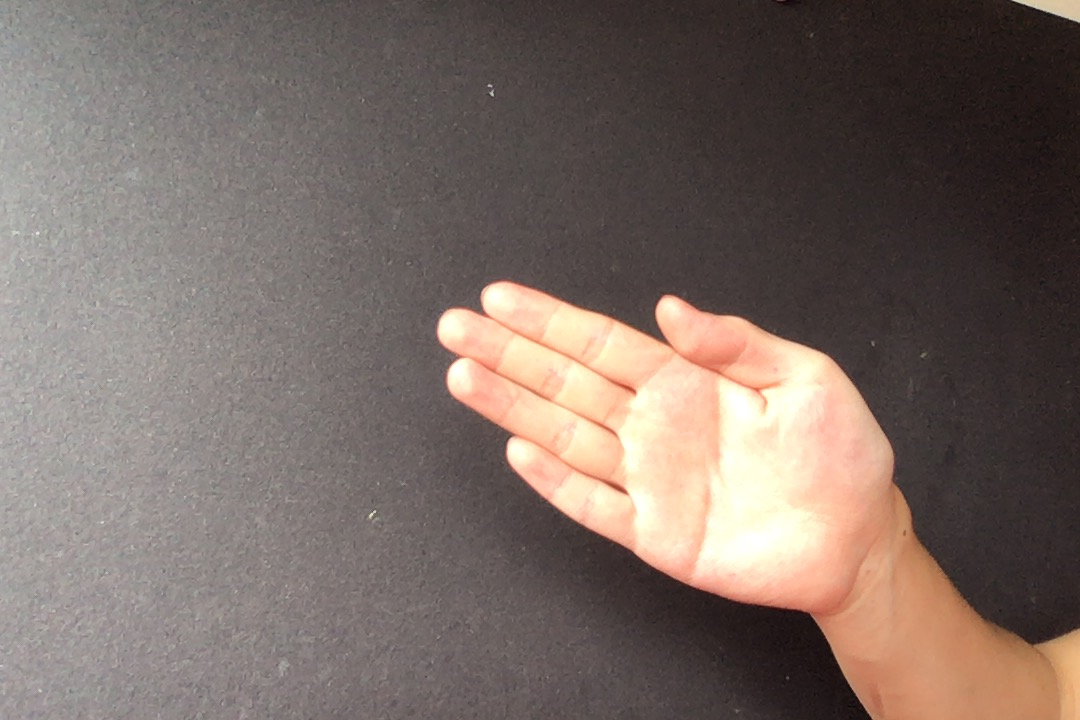palmhand: (426, 274, 907, 624)
